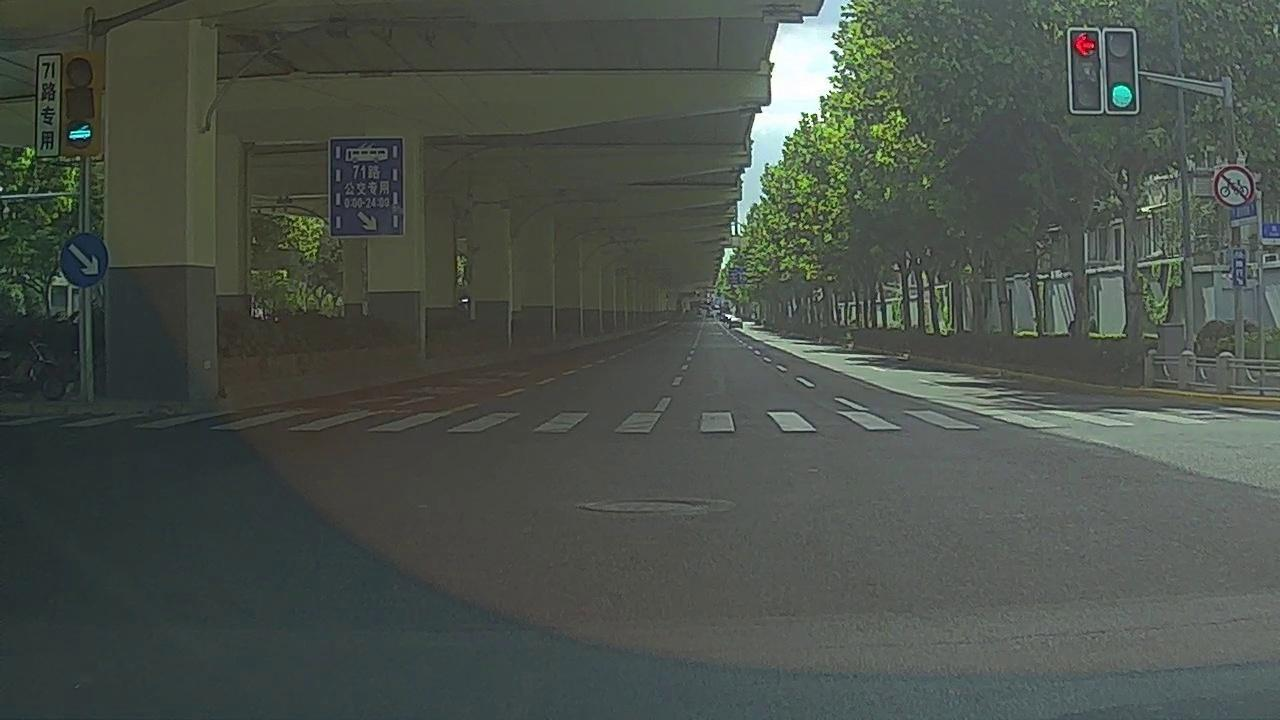traffic_light: (1106, 29, 1139, 111), (1069, 26, 1101, 109)
